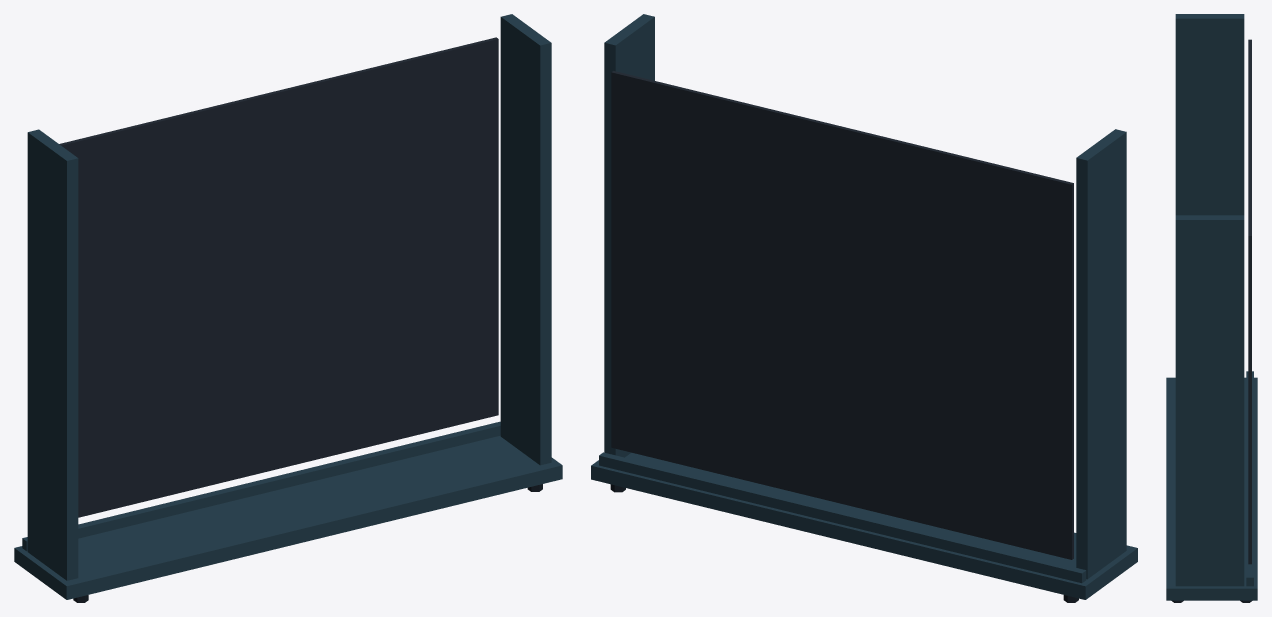
Rendered from estante_prateleira.glb.
The picture shows the model from 3 angles, left to right: view 1: azimuth 30°, elevation 25°; view 2: azimuth 150°, elevation 25°; view 3: azimuth 270°, elevation 25°; orthographic projection. The views are drawn at different scales.
Visible parts, largest first — view 1: estante_prateleira_malha; view 2: estante_prateleira_malha; view 3: estante_prateleira_malha.
Part boxes in pixels (<box>): estante_prateleira_malha: <box>14,14,562,602</box>; estante_prateleira_malha: <box>591,14,1137,602</box>; estante_prateleira_malha: <box>1166,14,1257,602</box>.
Size of the model in its own units: 2.62 by 2.24 by 0.48.
